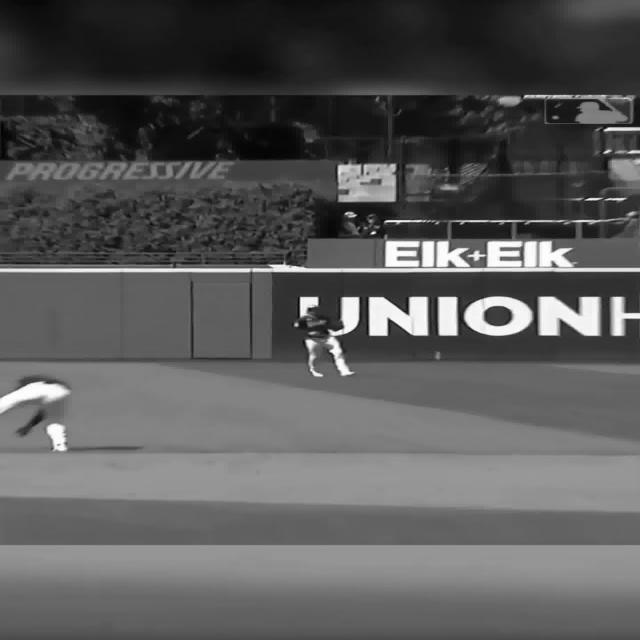baseball_glove: (14, 409, 44, 437), (326, 319, 344, 332)
shoe: (51, 443, 67, 452), (308, 370, 322, 377), (340, 371, 356, 376)
